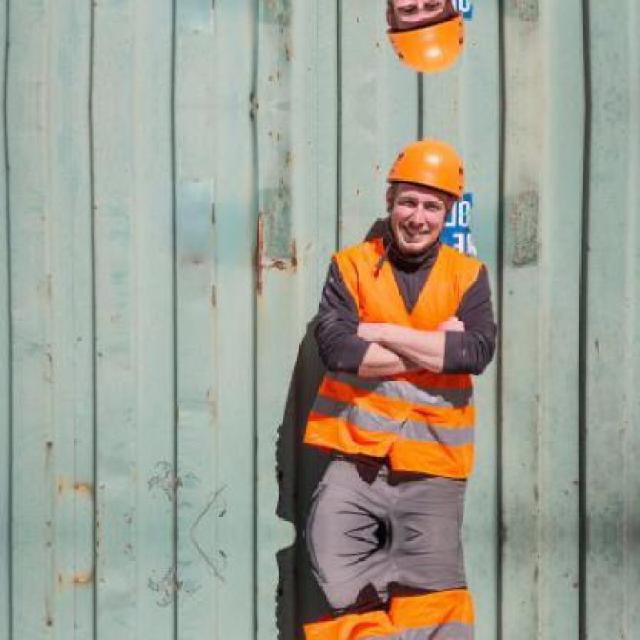safetyhelmet: (378, 138, 469, 230)
